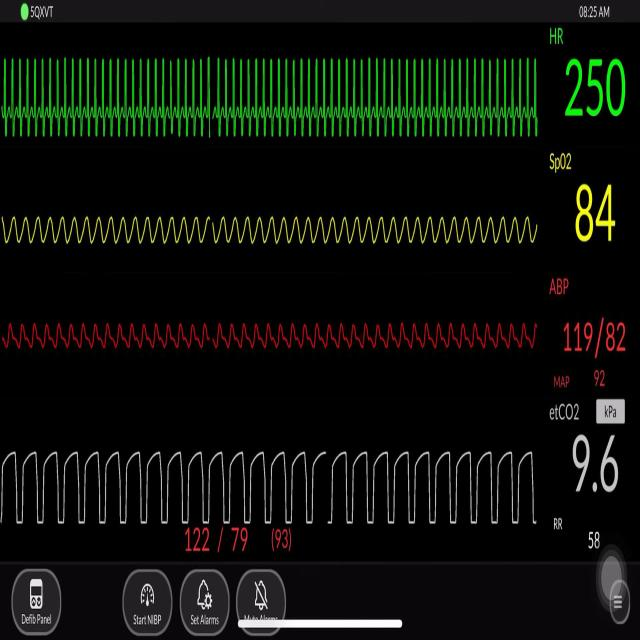danger: (215, 52, 542, 148), (7, 49, 208, 146)
